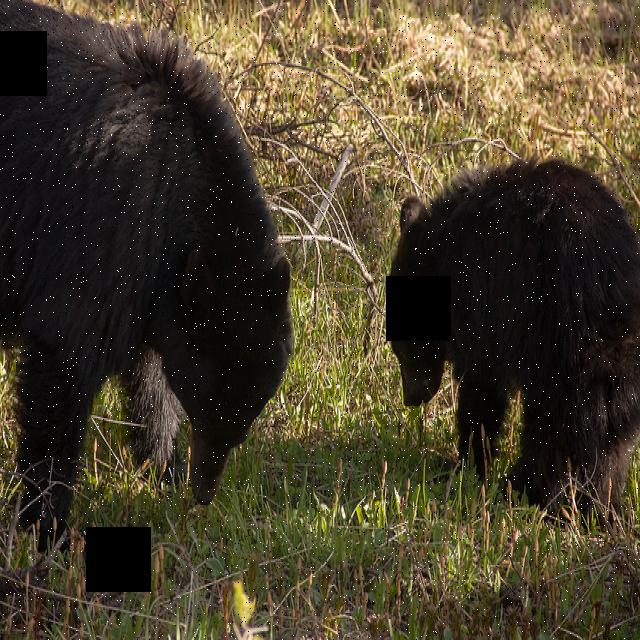Bear: (0, 7, 289, 534), (384, 137, 640, 512)
